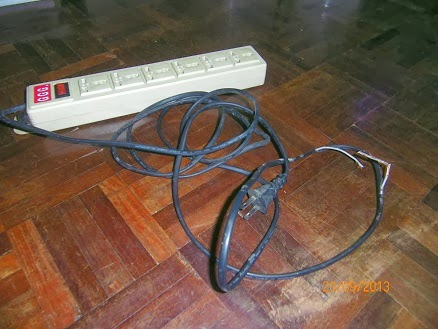Three_eye_plug: (24, 39, 269, 136)
